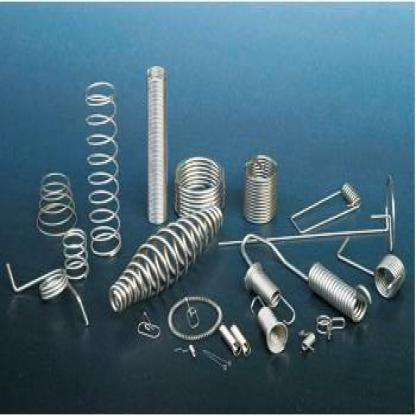FOD: (106, 205, 224, 315), (84, 78, 124, 260), (6, 259, 88, 329), (337, 234, 407, 298), (144, 68, 170, 228), (305, 262, 372, 324), (174, 151, 227, 219), (34, 168, 79, 243), (240, 154, 282, 229), (249, 289, 288, 356), (60, 225, 92, 283), (220, 322, 241, 358), (297, 327, 317, 355)
